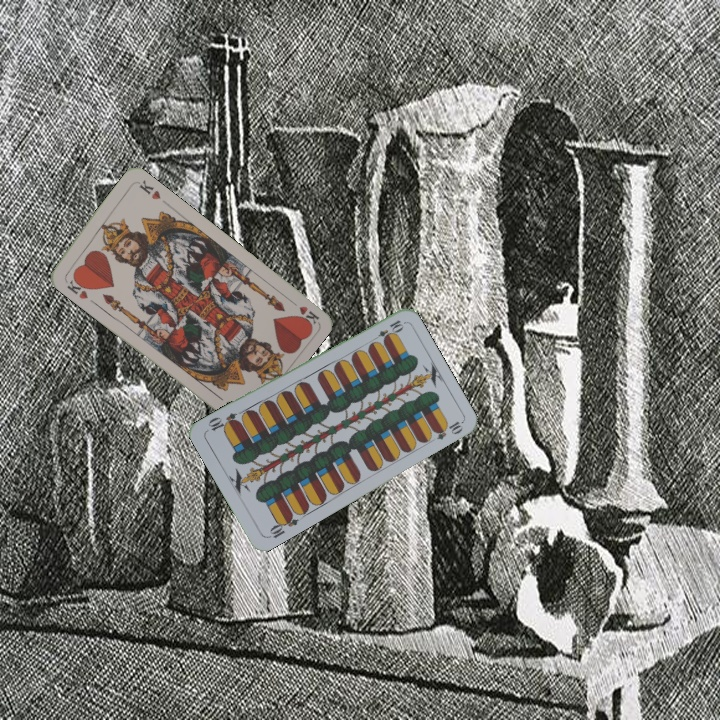E10: (264, 510, 301, 541), (368, 316, 406, 345)
HK: (284, 294, 321, 328), (60, 272, 92, 302)
